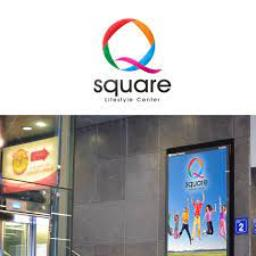q: (96, 8, 164, 78)
